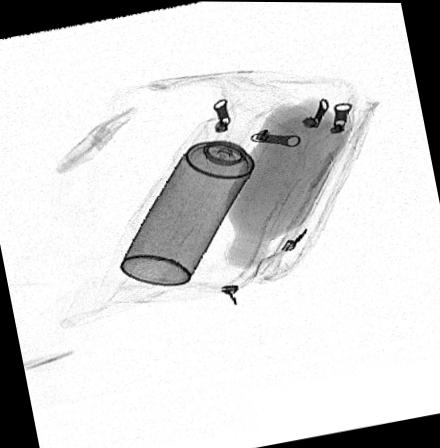Sprayer: (118, 115, 270, 287)
